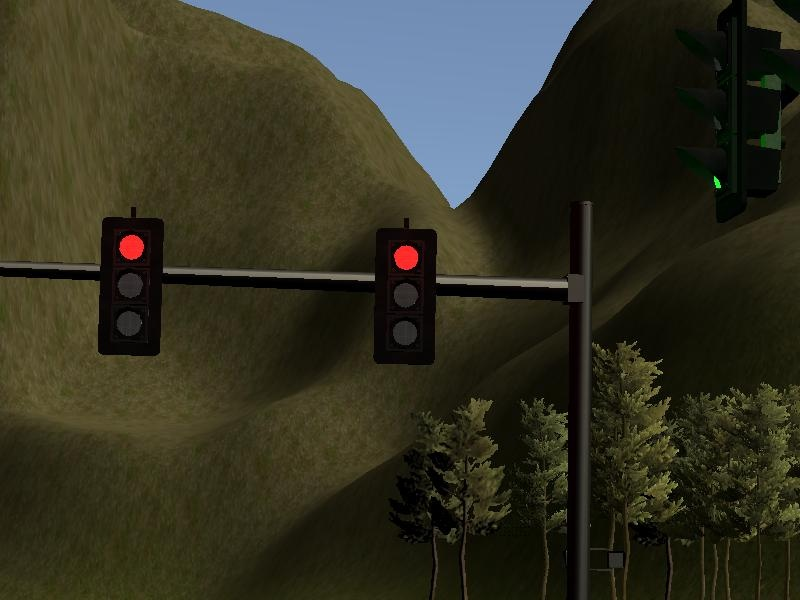RED: (373, 228, 435, 365), (99, 217, 161, 354)
